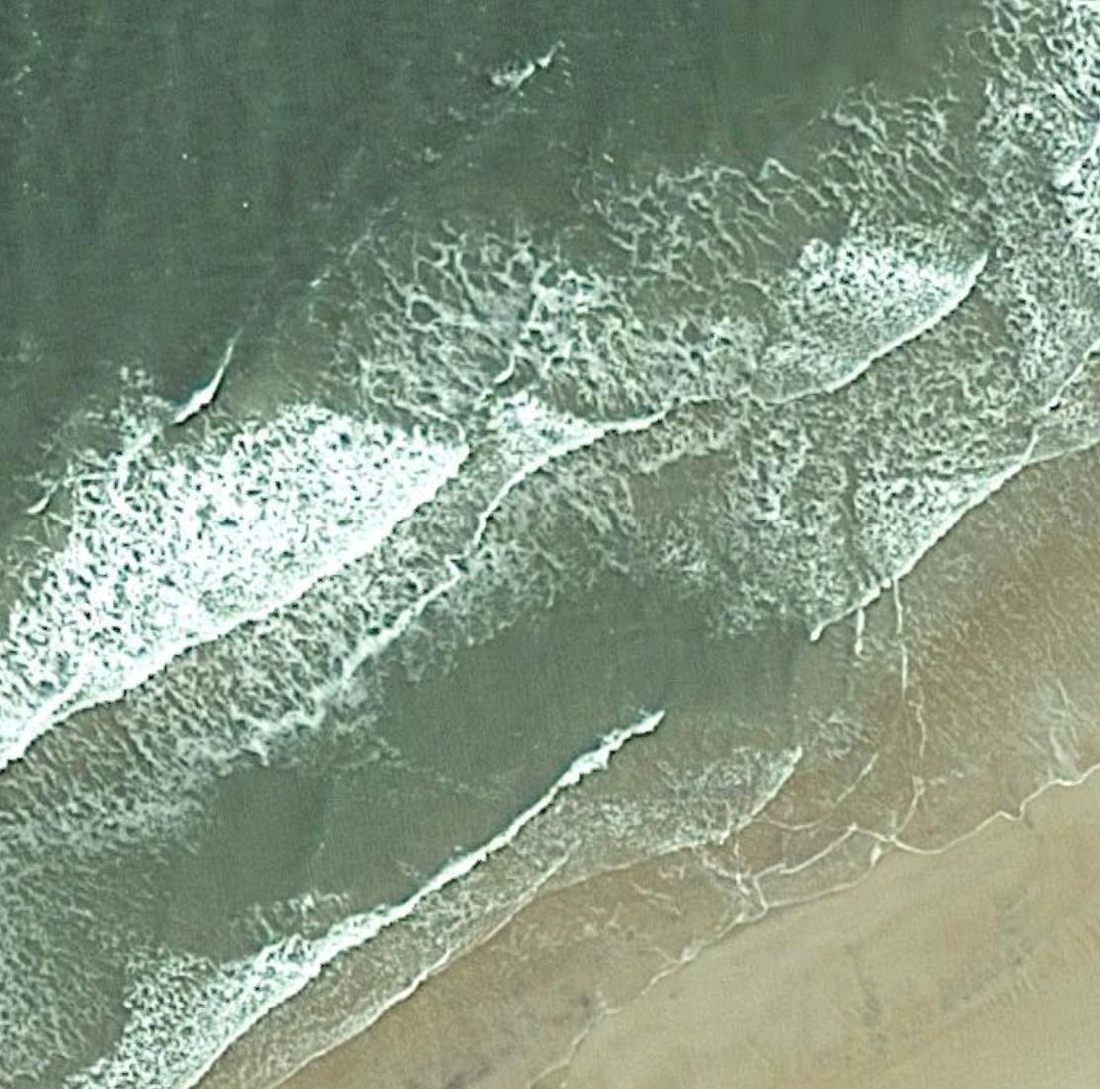rip_current: (332, 347, 765, 712)
